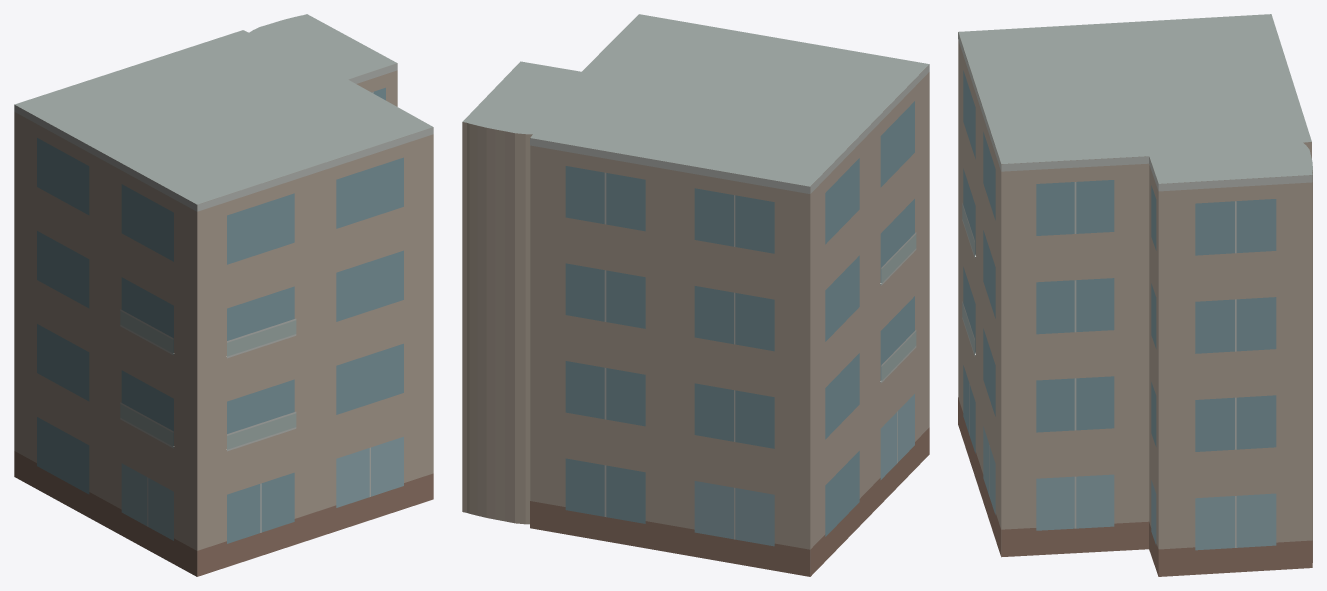
The model's file is survey-upis-32716135.glb.
3 views of the same model, side by side, from view 1: azimuth 30°, elevation 25°; view 2: azimuth 150°, elevation 25°; view 3: azimuth 270°, elevation 25° (orthographic). The views are drawn at different scales.
Parts seen in each view (by area): view 1: survey-upis-32716135.tmp; view 2: survey-upis-32716135.tmp; view 3: survey-upis-32716135.tmp.
Boxes of the visible parts, x1=… form: survey-upis-32716135.tmp: x1=14, y1=14, x2=433, y2=576; survey-upis-32716135.tmp: x1=462, y1=14, x2=929, y2=576; survey-upis-32716135.tmp: x1=958, y1=14, x2=1312, y2=576.
Size of the model in its own units: 11.83 by 12.75 by 10.43.
